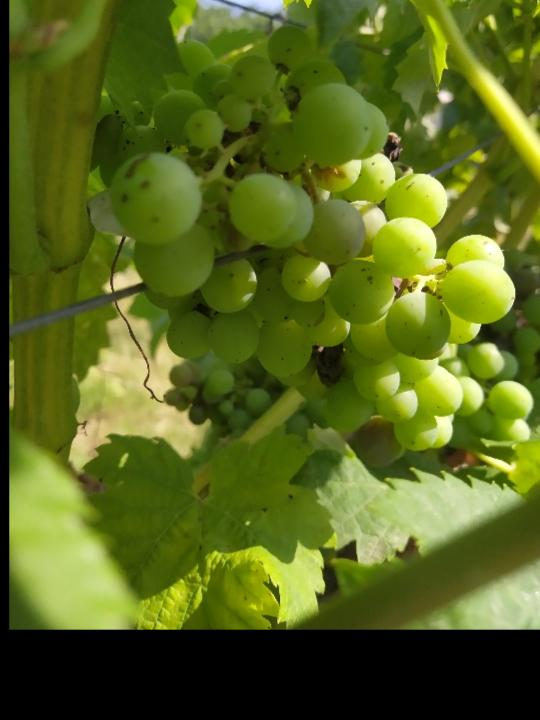grape: (94, 27, 534, 473)
